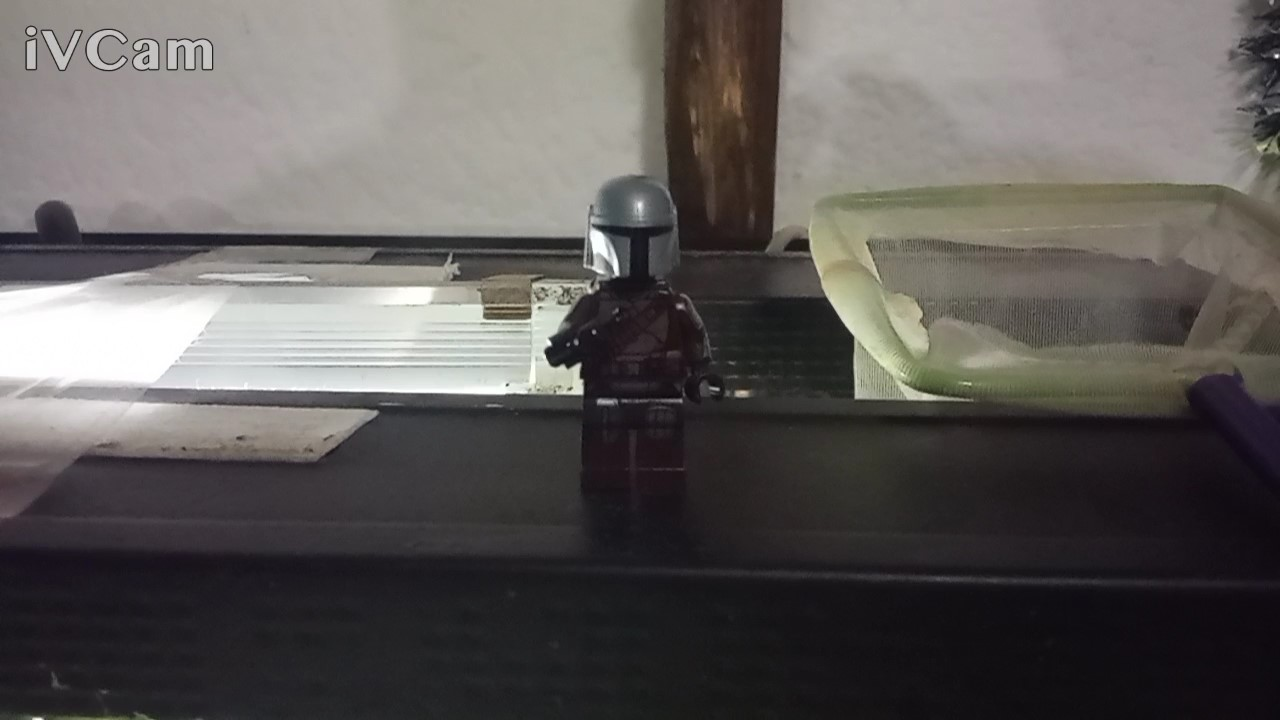mandalorian: (563, 162, 728, 559)
